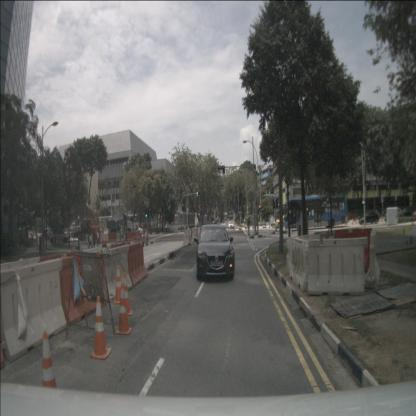barrier: (0, 258, 68, 372), (57, 251, 108, 327), (308, 237, 368, 296), (0, 256, 40, 337), (40, 252, 84, 323), (96, 245, 132, 301), (333, 228, 372, 272), (82, 244, 111, 298), (285, 235, 319, 276), (288, 237, 312, 292), (363, 228, 380, 288), (126, 242, 147, 288), (110, 240, 131, 286), (183, 229, 190, 245), (116, 232, 126, 242), (124, 232, 134, 242), (92, 234, 101, 243), (107, 234, 117, 242), (188, 228, 193, 243), (86, 234, 94, 243), (100, 234, 109, 242), (191, 228, 196, 240), (135, 230, 141, 240), (195, 227, 199, 240), (352, 214, 358, 220), (347, 214, 352, 220), (198, 226, 200, 239), (36, 236, 40, 242)
cone: (90, 295, 112, 363), (115, 283, 133, 338), (42, 330, 57, 388), (118, 271, 132, 316), (113, 264, 124, 304), (380, 216, 383, 222), (83, 237, 85, 245), (355, 217, 357, 224), (352, 219, 354, 225)
